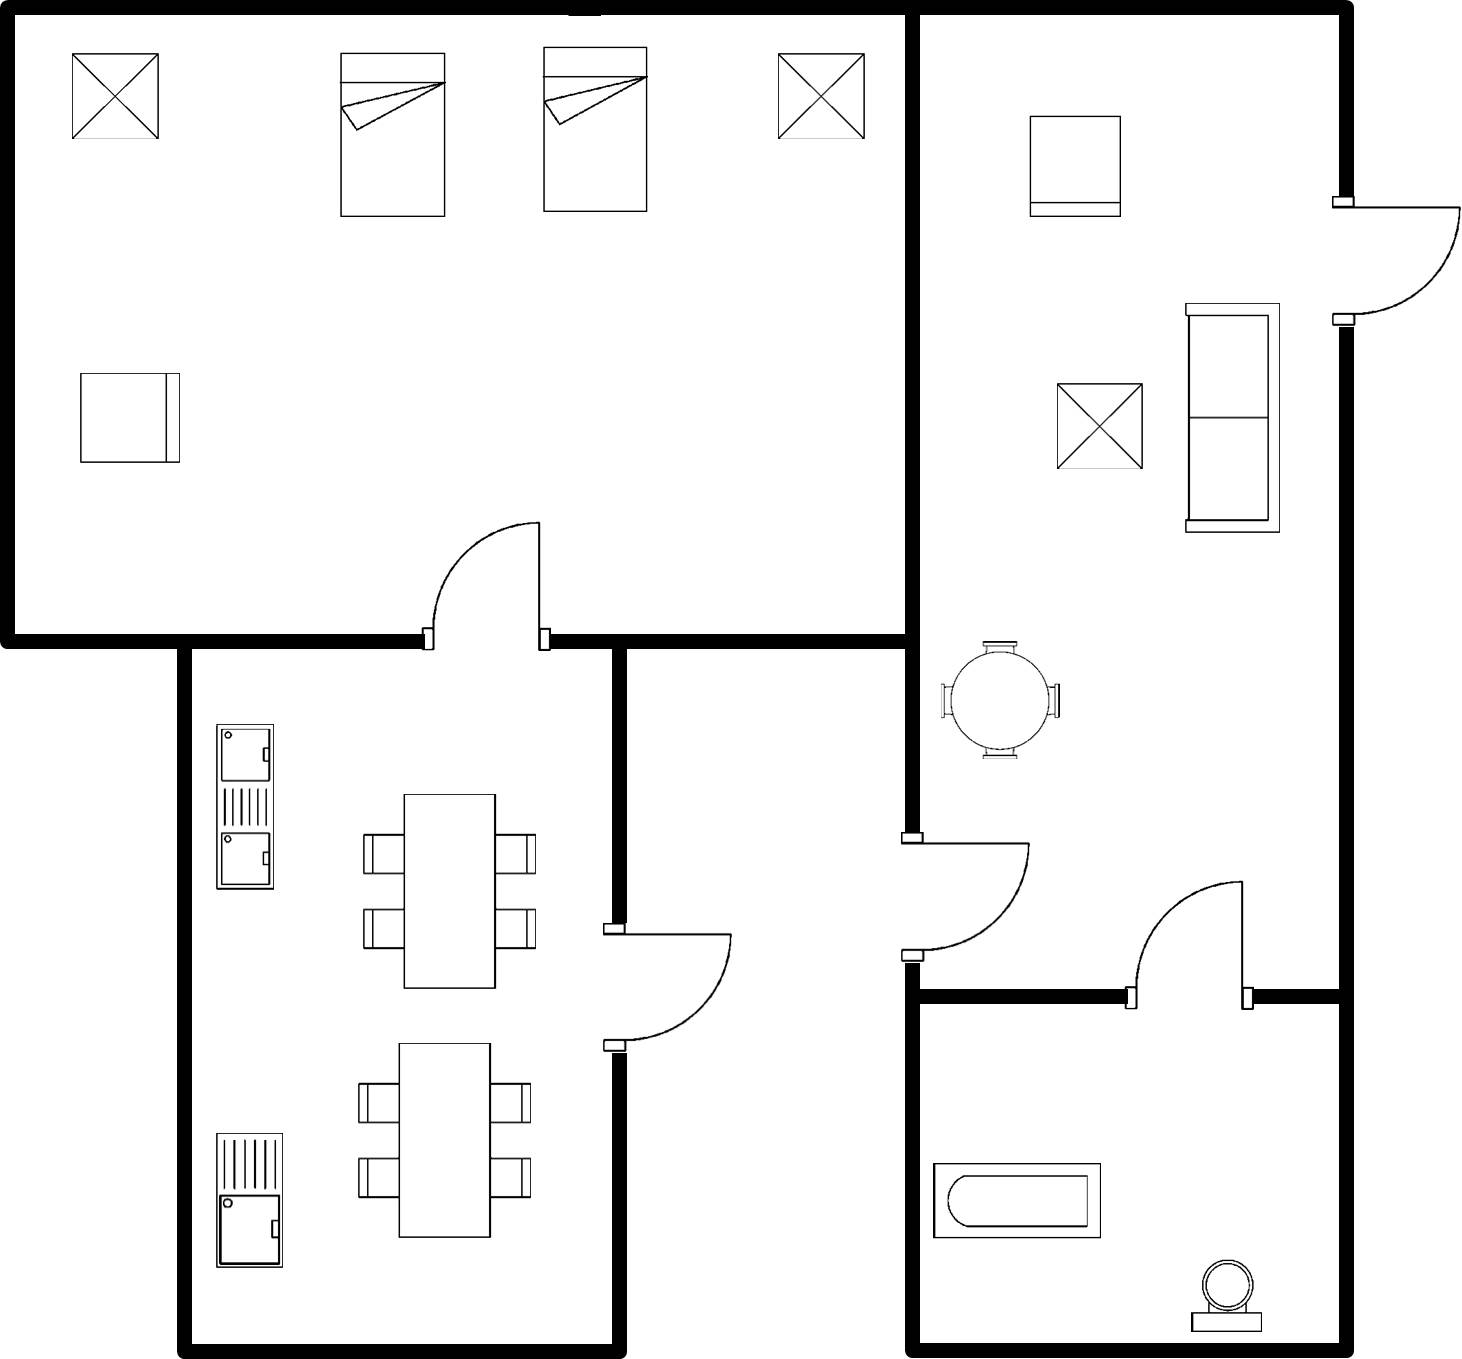bed: (330, 44, 461, 228), (530, 35, 658, 222)
coffee_table: (768, 44, 874, 154), (62, 44, 168, 151), (1048, 374, 1156, 478)
dining_table: (348, 784, 549, 999), (346, 1032, 541, 1247)
large_sink: (1181, 1250, 1270, 1339)
large_sofa: (1174, 294, 1288, 547)
round_table: (933, 631, 1068, 764)
sink: (208, 1124, 294, 1276)
small_sofa: (1020, 104, 1134, 230), (69, 363, 190, 478)
tub: (926, 1152, 1118, 1247)
twin_sink: (205, 714, 284, 899)
